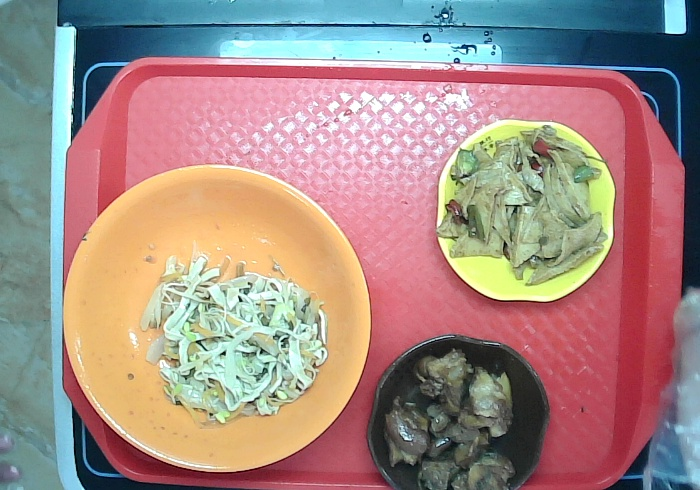YKMZ-Huang_Se_Ao_Bian_Wan: (431, 119, 621, 303)
YKMZ-Ju_Se_Tang_Wan: (62, 159, 376, 475)
YKMZ-Ka_Fei_Ao_Bian_Wan: (364, 328, 550, 490)
